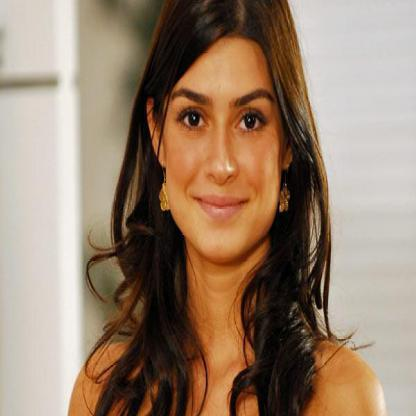long-hair: (111, 261, 331, 347)
